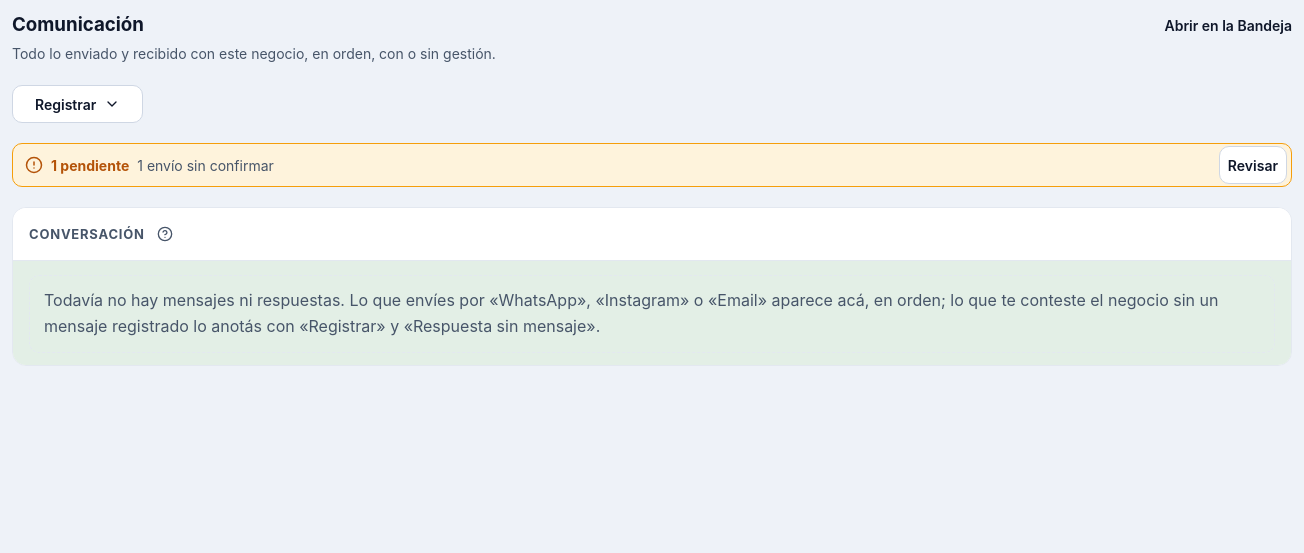
Test case: «Requiere acción» strip (spec 100 §5) › collapses back once the last counted pending is resolved
The width and height of the screenshot is (1304, 553).
Expected: the element "Conversación" is shown, top-left (12, 208), bottom-right (1292, 366)
Click the button "Revisar" at (1253, 166), box top-left (1219, 146), bottom-right (1287, 184)
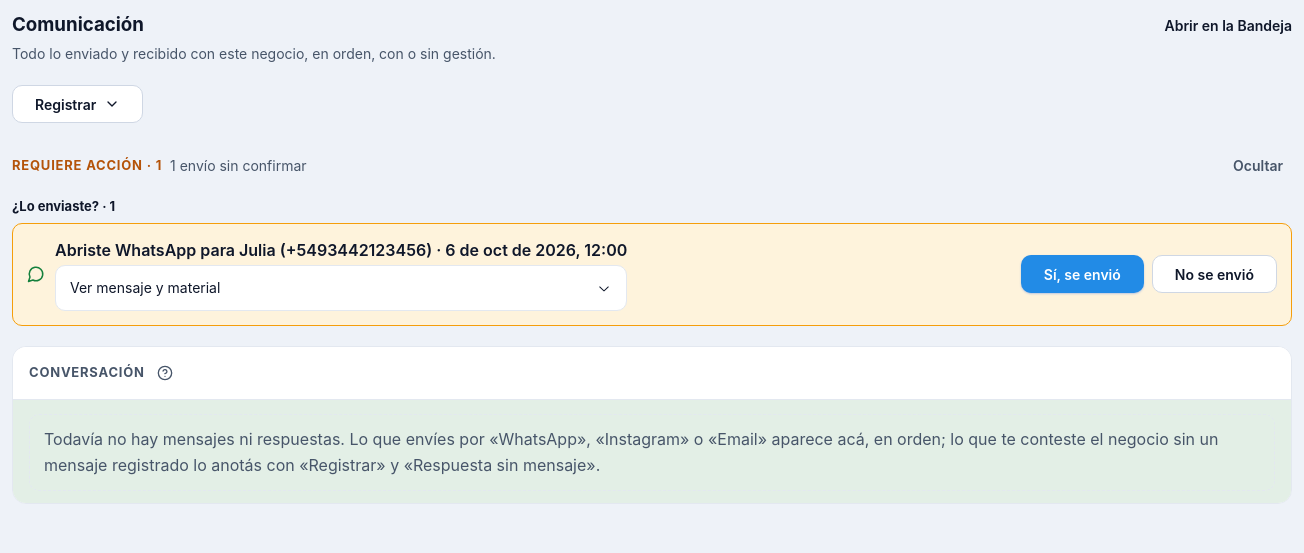
Click the button "Sí, se envió" at (1082, 274), box top-left (1021, 256), bottom-right (1144, 294)
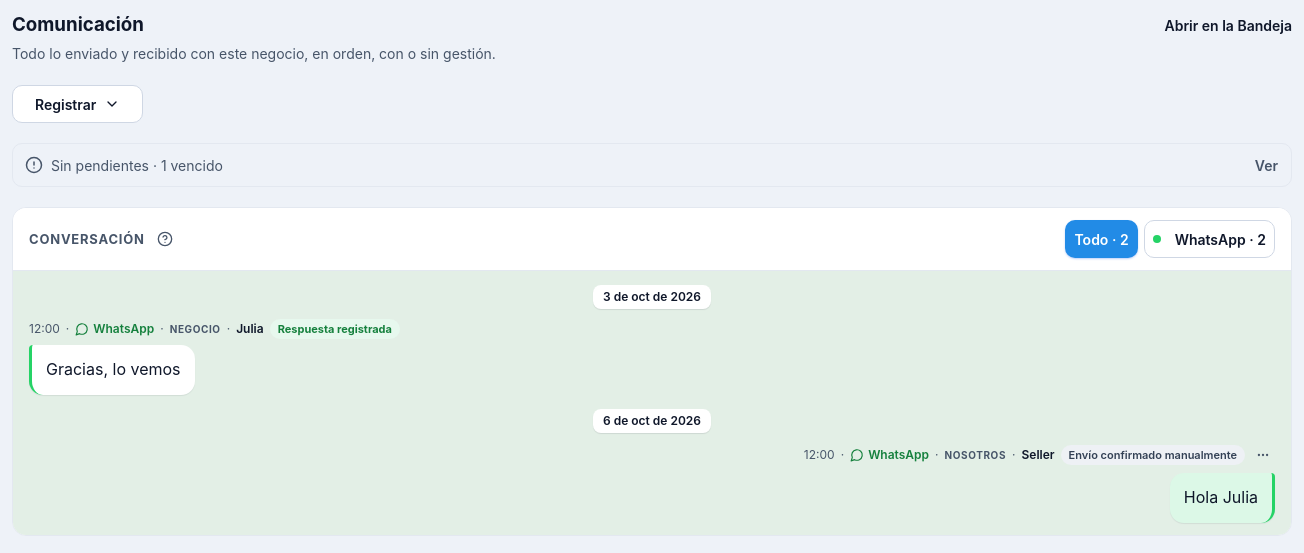
Result: the text "Sin pendientes · 1 vencido" is shown at top-left (51, 157), bottom-right (223, 174)
Result: the button "Ver" is collapsed at top-left (1246, 146), bottom-right (1287, 184)
